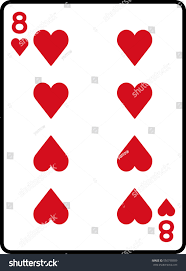eight of hearts: (4, 3, 185, 250)
